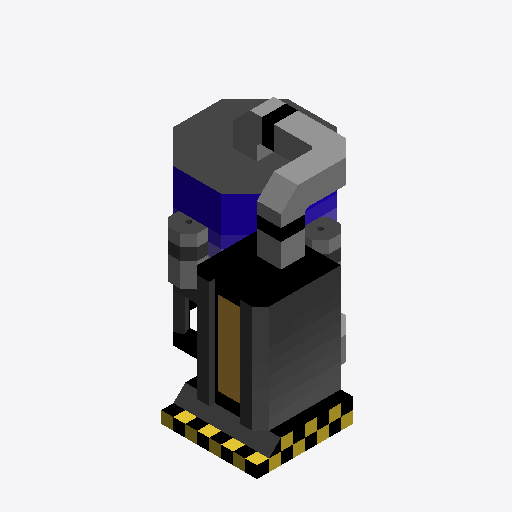
A Minecraft block model of 85 cuboids, rendered isometrically (azimuth 45°, elevation 35.3°) with the resource pack's own textures.
Parts seen in each view (by area): element 4, element 1, element 80, element 9, element 39, element 84, element 6, element 3, element 7, element 85, element 2, element 40 (+12 smaller).
Part boxes in pixels (left/top/right/bottom): element 4: left=198, top=231, right=340, bottom=430; element 1: left=161, top=403, right=352, bottom=478; element 80: left=250, top=97, right=344, bottom=160; element 9: left=209, top=275, right=255, bottom=416; element 39: left=173, top=159, right=231, bottom=258; element 84: left=257, top=201, right=304, bottom=268; element 6: left=197, top=271, right=216, bottom=405; element 3: left=174, top=383, right=280, bottom=457; element 7: left=252, top=298, right=268, bottom=430; element 85: left=274, top=150, right=345, bottom=206; element 2: left=185, top=376, right=352, bottom=450; element 40: left=221, top=184, right=265, bottom=250.
Bounding box in the file's own units: 15.83 × 16.42 × 16.